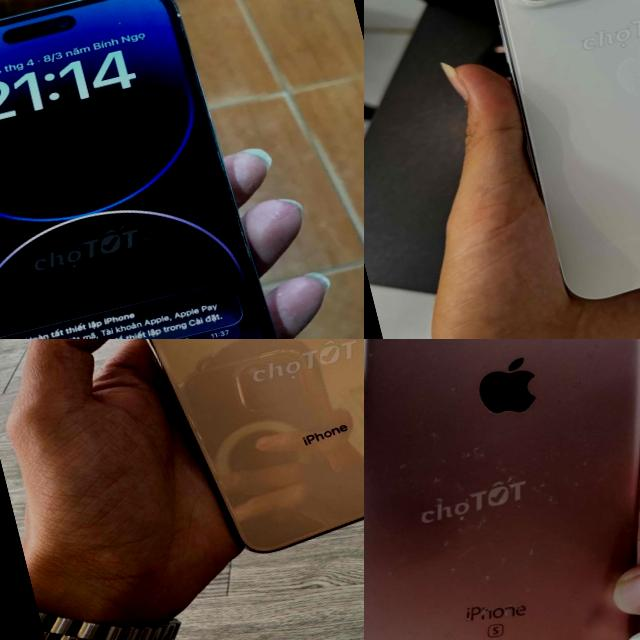gen_14: (0, 0, 311, 339), (464, 0, 640, 313)
gen_6: (364, 339, 640, 640)
gen_x_xs: (59, 339, 364, 587)
scratch: (426, 488, 592, 620), (520, 430, 630, 519), (516, 339, 640, 387), (454, 433, 511, 480), (418, 409, 458, 452), (106, 9, 130, 35)
